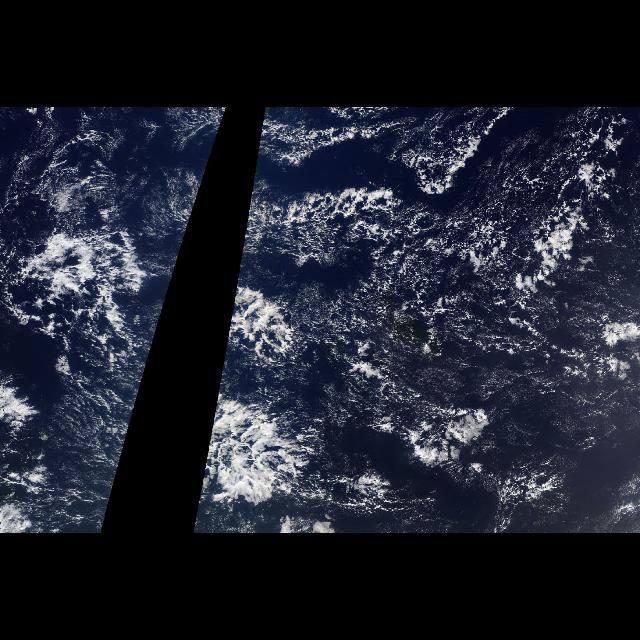Gravel: (236, 136, 638, 480)
